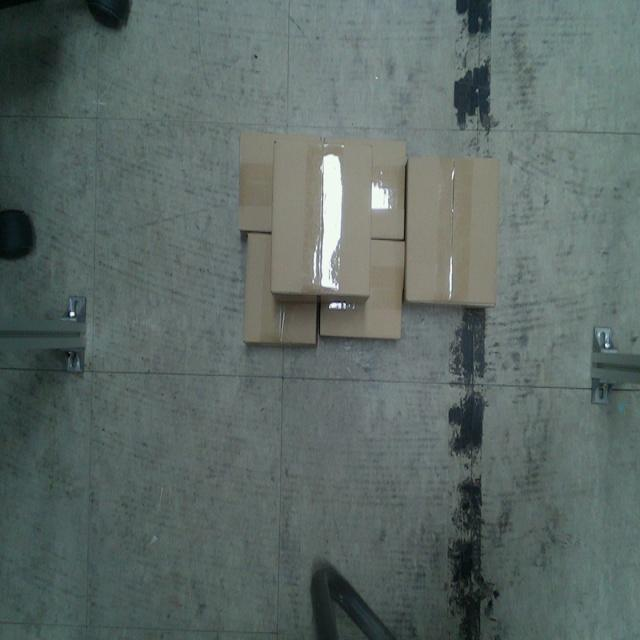box: (271, 137, 373, 306), (406, 153, 498, 310)
